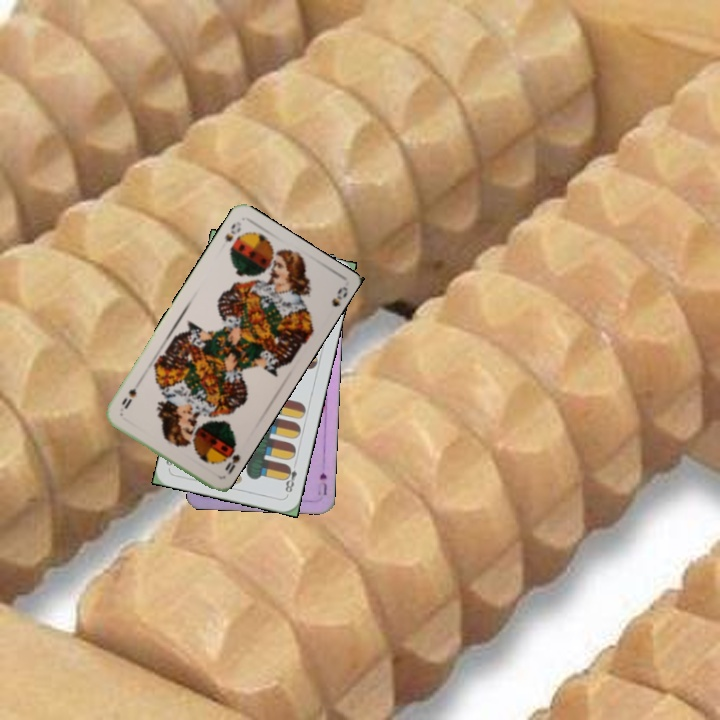E8: (280, 458, 300, 498)
SO: (219, 438, 243, 477), (221, 219, 244, 245)
SU: (315, 469, 329, 498)
